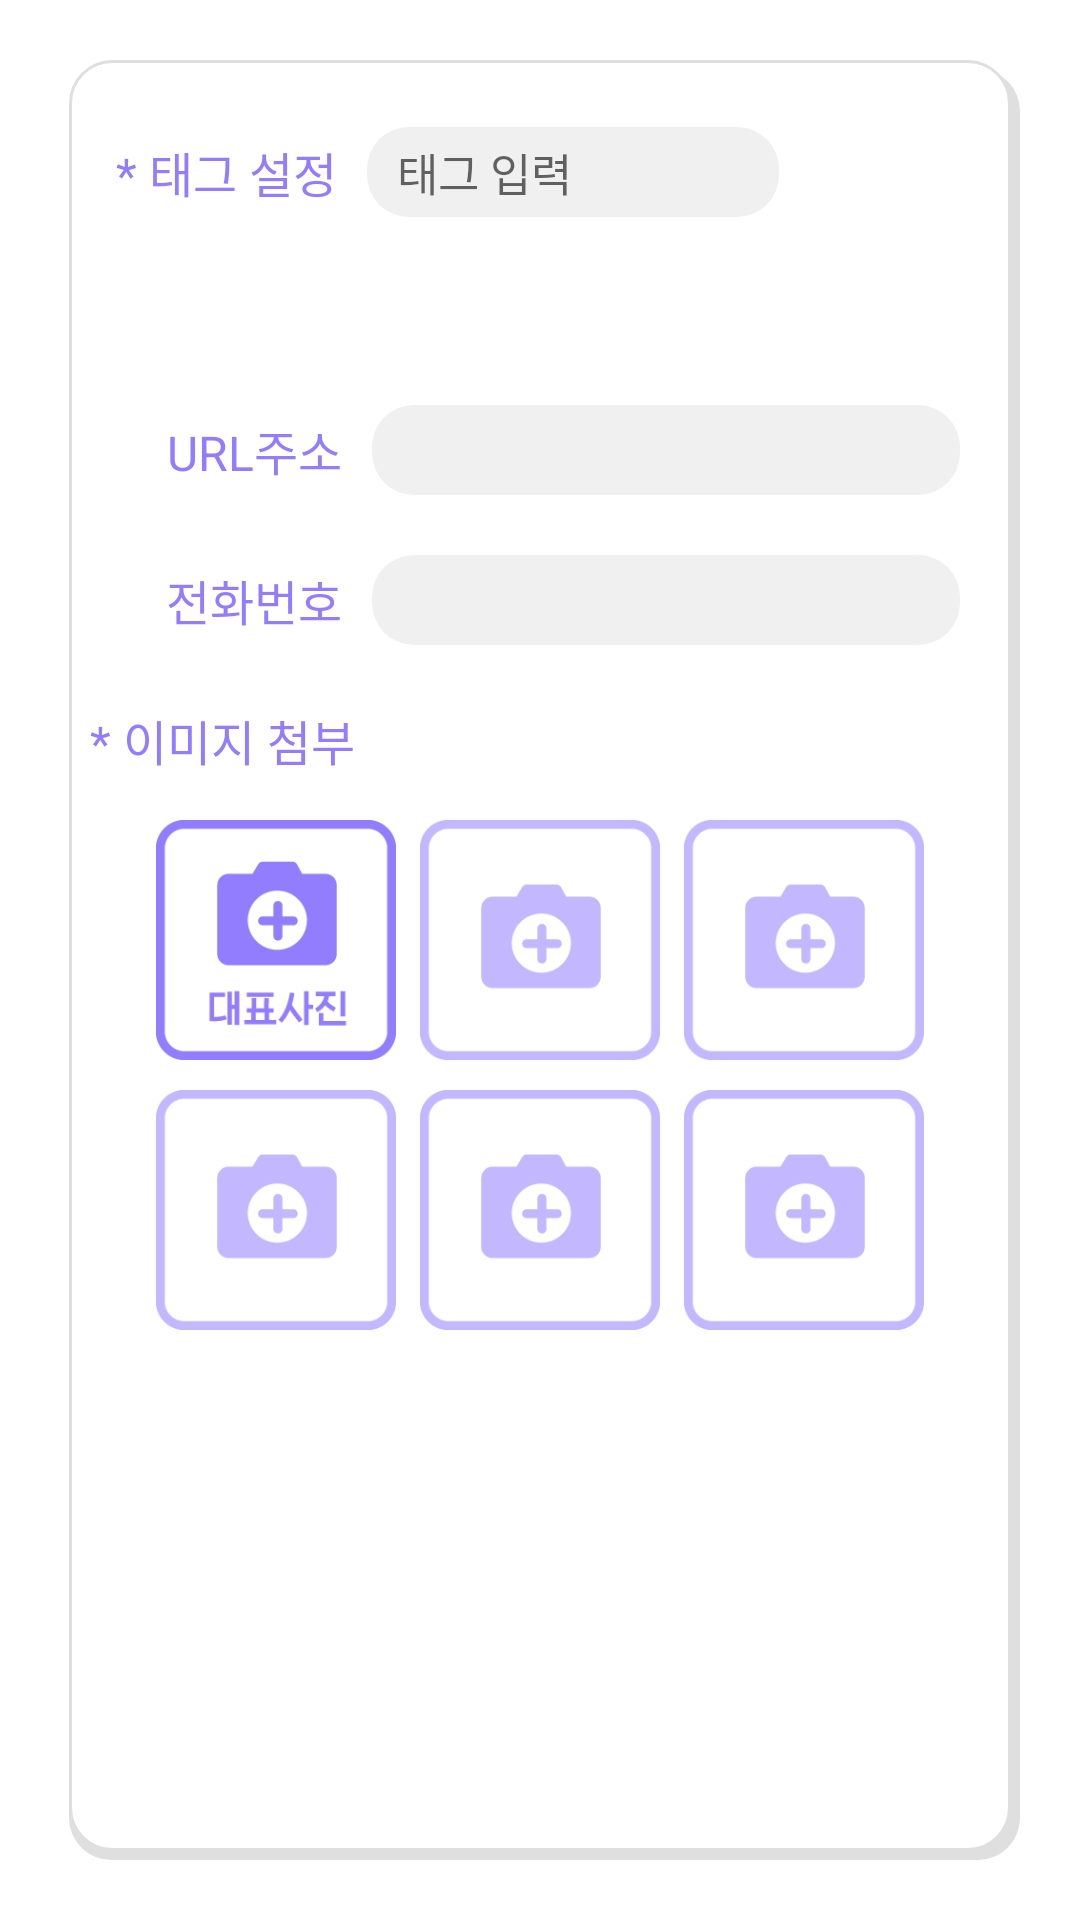

Icons on this 1080*1920 Android screen, each with the point to tap as point (x, y):
camera inbox: point (276, 940), point (540, 940), point (804, 940), point (276, 1210), point (540, 1210), point (804, 1210)
